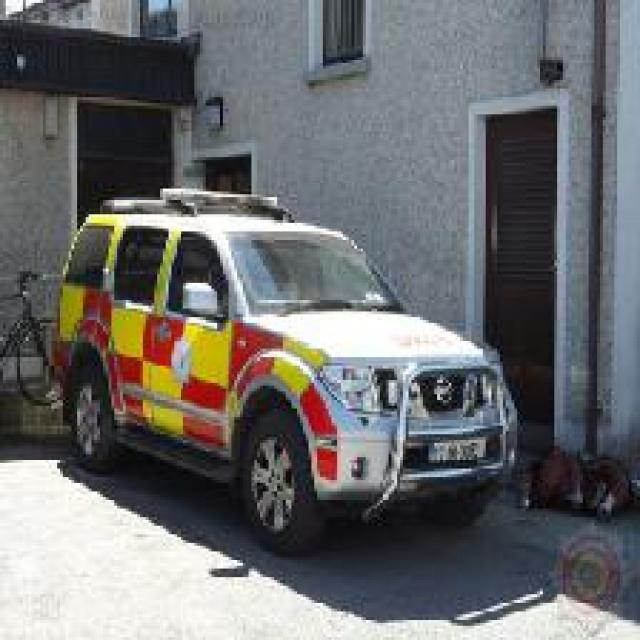Car: (46, 183, 520, 554)
